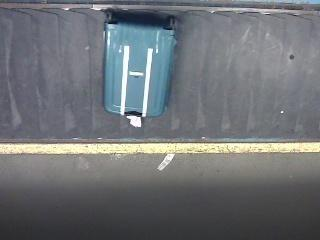Suitcase: (104, 14, 176, 128)
